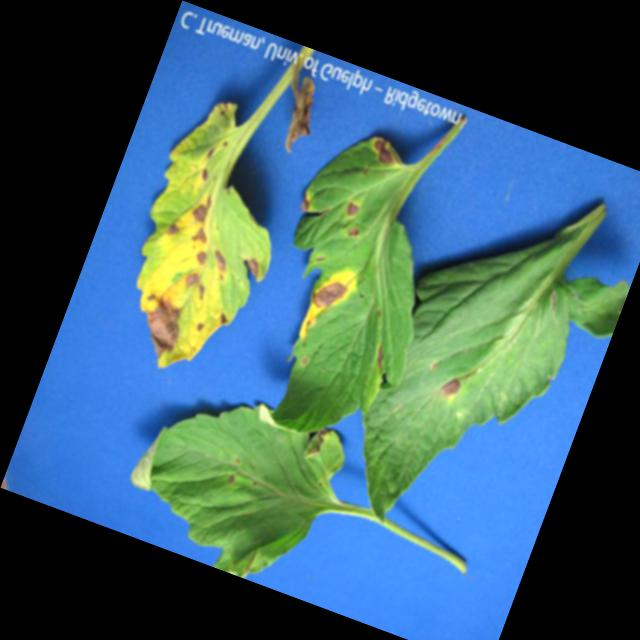Early_blight: (295, 257, 362, 349), (119, 287, 193, 368), (265, 72, 326, 159), (363, 135, 403, 171), (173, 268, 211, 305), (203, 248, 239, 284), (187, 191, 216, 226), (437, 371, 466, 405), (238, 253, 264, 280), (369, 344, 392, 374), (189, 224, 214, 249), (294, 189, 316, 215), (340, 198, 363, 221), (160, 218, 181, 240), (190, 246, 209, 267), (194, 166, 213, 186), (221, 468, 240, 487), (346, 223, 363, 242), (192, 320, 208, 336), (215, 310, 229, 327)
